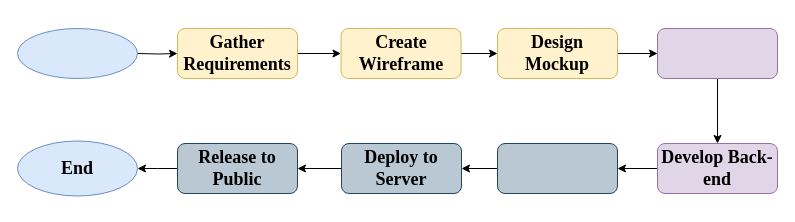
Some shapes in this 795 by 222 pixel diagram are drawn without their labels. Each missing label, with the box of its shape:
Develop Front-end: (656, 28, 778, 78)
Start: (16, 28, 138, 78)
Testing: (496, 142, 618, 194)
